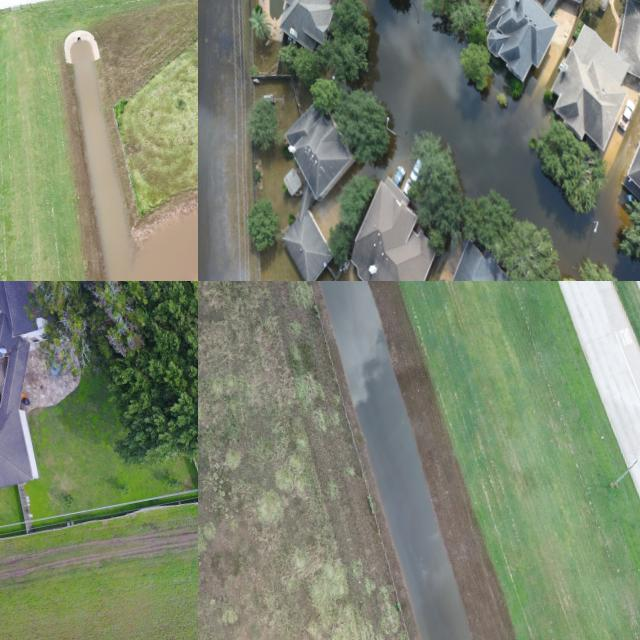fire: (319, 281, 472, 640), (386, 0, 575, 196), (71, 34, 198, 281), (198, 24, 248, 139), (236, 140, 266, 232)
